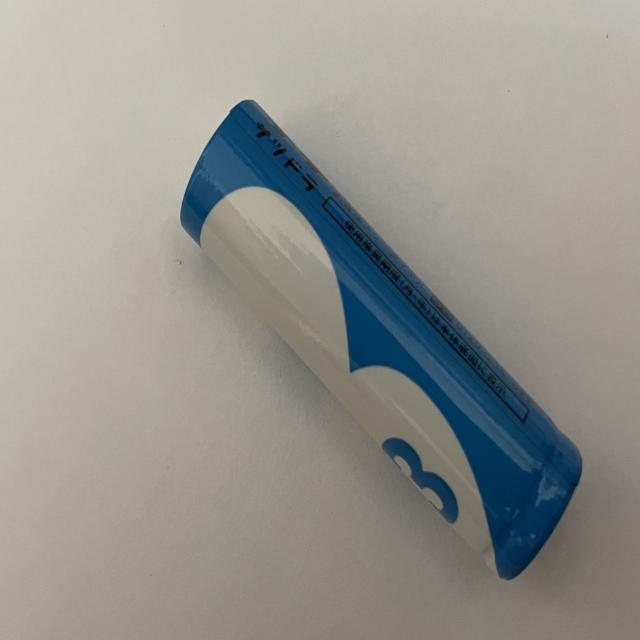hazardous waste: (178, 101, 586, 584)
